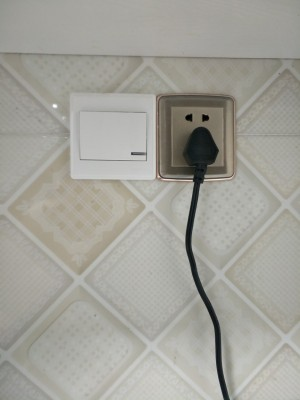switch: (77, 104, 151, 165)
